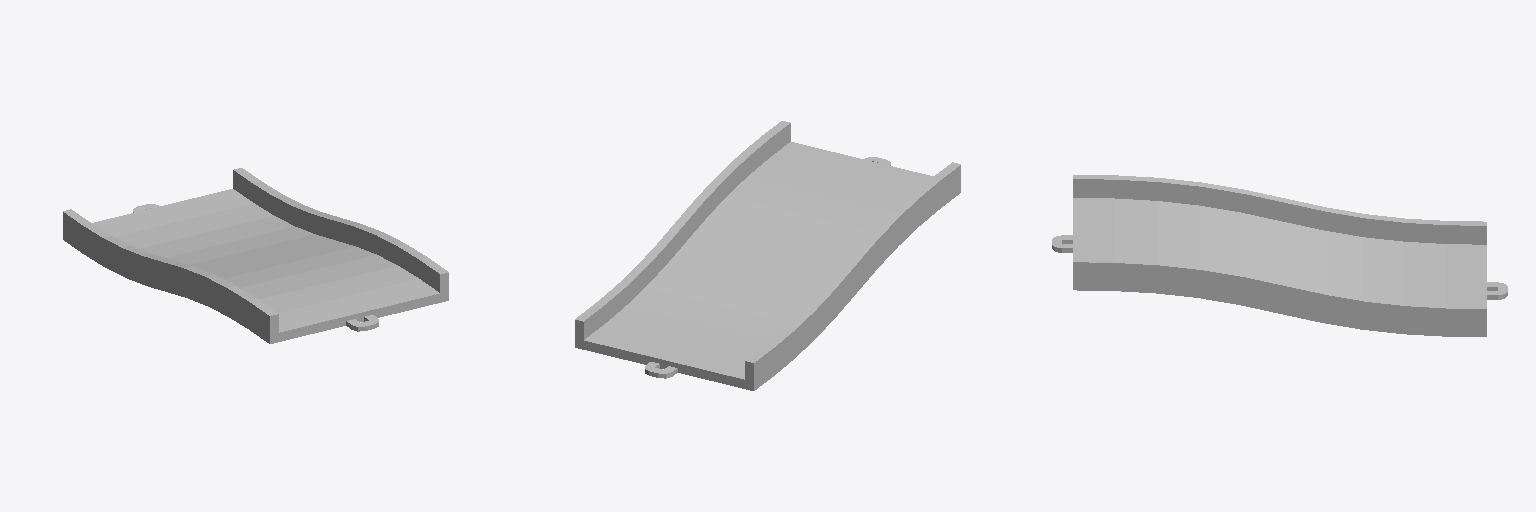
File: track-road-wide-straight-hill-complete-half.obj
The picture shows the model from 3 angles: view 1: azimuth 30°, elevation 25°; view 2: azimuth 150°, elevation 25°; view 3: azimuth 270°, elevation 25°; orthographic projection.
Visible parts, largest first — view 1: track-road-wide-straight-hill-complete-half; view 2: track-road-wide-straight-hill-complete-half; view 3: track-road-wide-straight-hill-complete-half.
Part boxes in pixels (bbox=[...]): track-road-wide-straight-hill-complete-half: bbox=[63, 168, 448, 343]; track-road-wide-straight-hill-complete-half: bbox=[575, 121, 960, 390]; track-road-wide-straight-hill-complete-half: bbox=[1052, 175, 1507, 336].
Size of the model in its own units: 2 by 0.8 by 4.4.